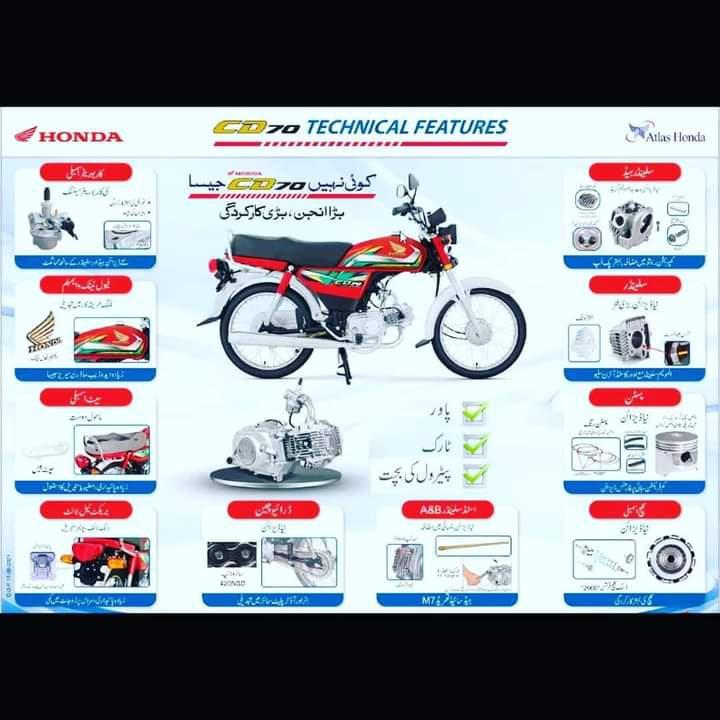bike: (197, 173, 536, 391)
